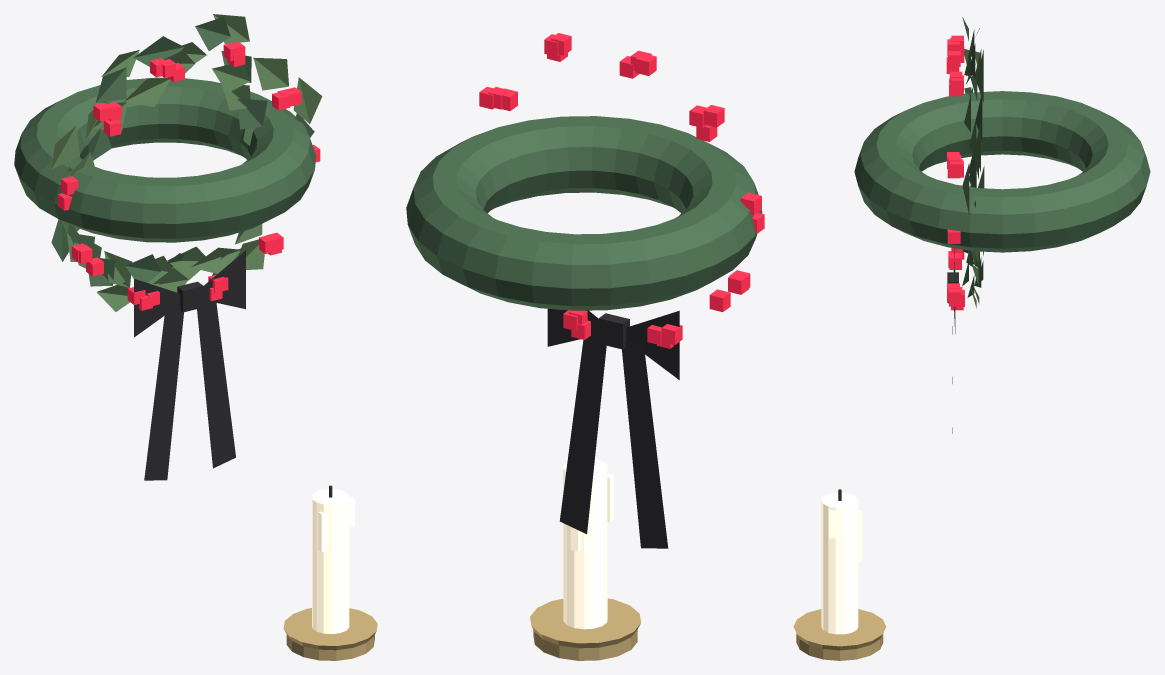
File: bv_memorial.glb
The picture shows the model from 3 angles, left to right: view 1: azimuth 30°, elevation 25°; view 2: azimuth 150°, elevation 25°; view 3: azimuth 270°, elevation 25°; orthographic projection. The views are drawn at different scales.
Parts seen in each view (by area): view 1: wreath_leaf, wreath_leaf2, wreath_ribbon, candle_wax, wreath_berry, candle_brass; view 2: wreath_leaf, wreath_ribbon, wreath_berry, candle_wax, candle_brass; view 3: wreath_leaf, candle_wax, candle_brass, wreath_berry, wreath_leaf2.
Part boxes in pixels (x1,y1,x2,y2): wreath_leaf: [14, 17, 316, 286]; wreath_leaf2: [51, 14, 322, 311]; wreath_ribbon: [134, 250, 245, 480]; candle_wax: [312, 489, 354, 633]; wreath_berry: [58, 42, 320, 310]; candle_brass: [283, 608, 377, 660]; wreath_leaf: [406, 116, 762, 310]; wreath_ribbon: [547, 308, 679, 548]; wreath_berry: [479, 33, 764, 348]; candle_wax: [563, 459, 614, 629]; candle_brass: [530, 598, 640, 660]; wreath_leaf: [854, 17, 1150, 303]; candle_wax: [821, 493, 862, 634]; candle_brass: [793, 609, 886, 660]; wreath_berry: [946, 35, 964, 310]; wreath_leaf2: [962, 28, 984, 308].
Bounding box in the file's own units: 0.5209 × 1.09 × 0.615.
